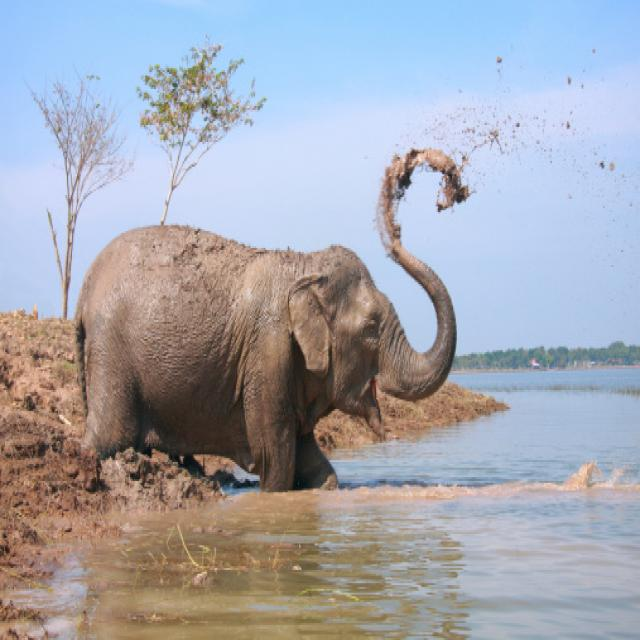Elephant: (63, 170, 466, 552)
